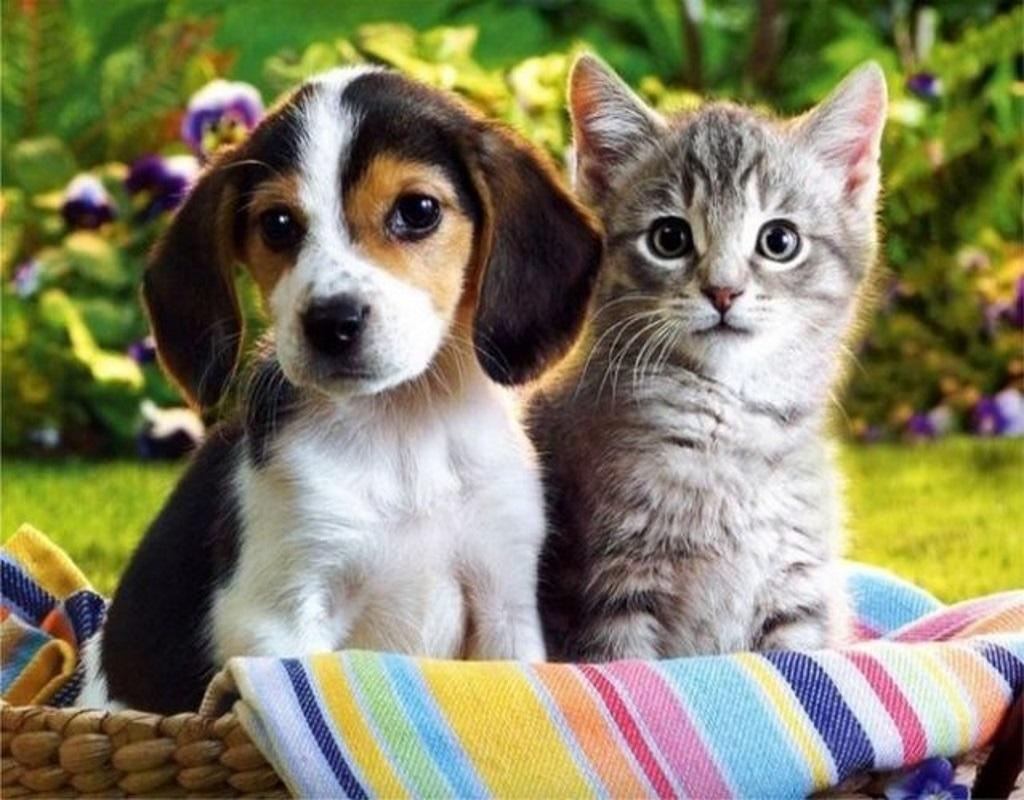animals: (129, 64, 596, 745), (560, 50, 950, 689)
